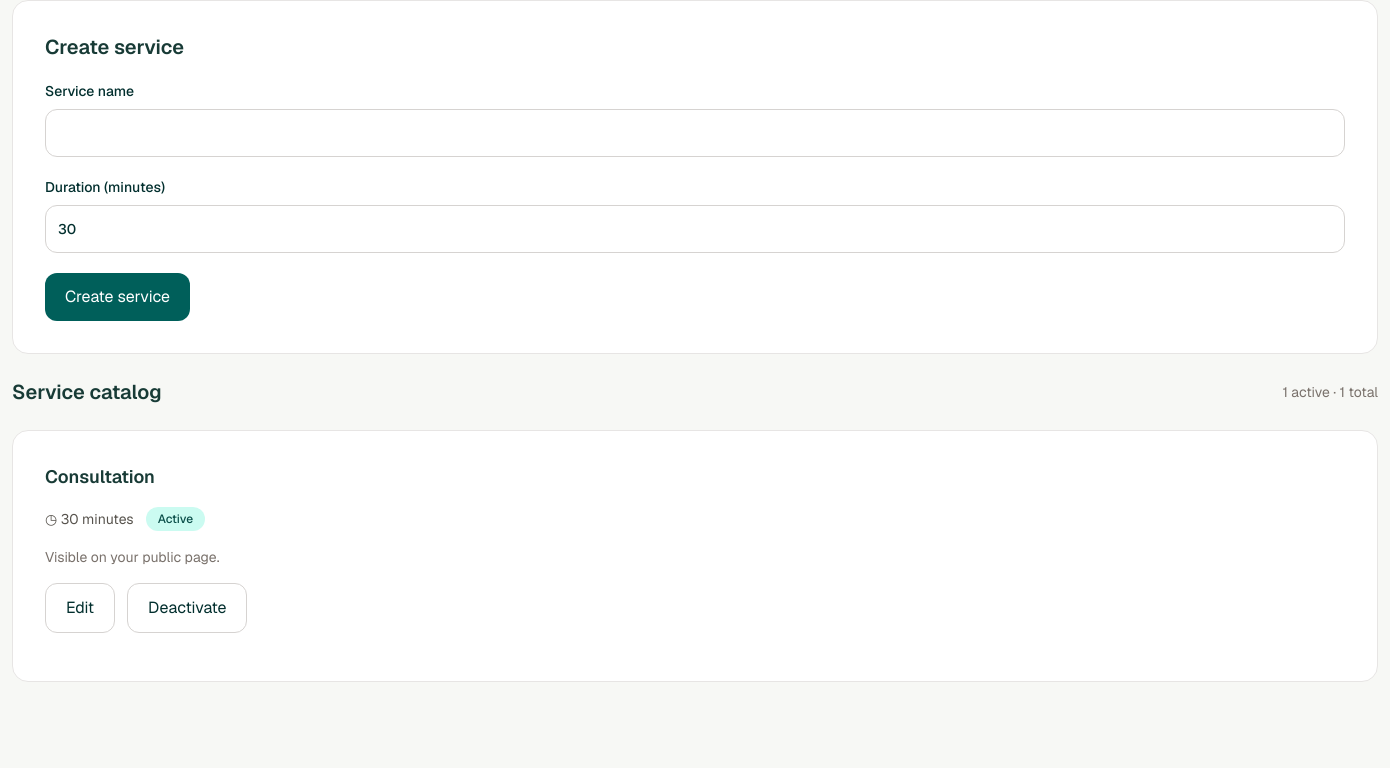
Test: edits an existing service
Step 1. Click the button with aria-label "Edit Consultation" → (80, 608), box [45, 583, 115, 633]
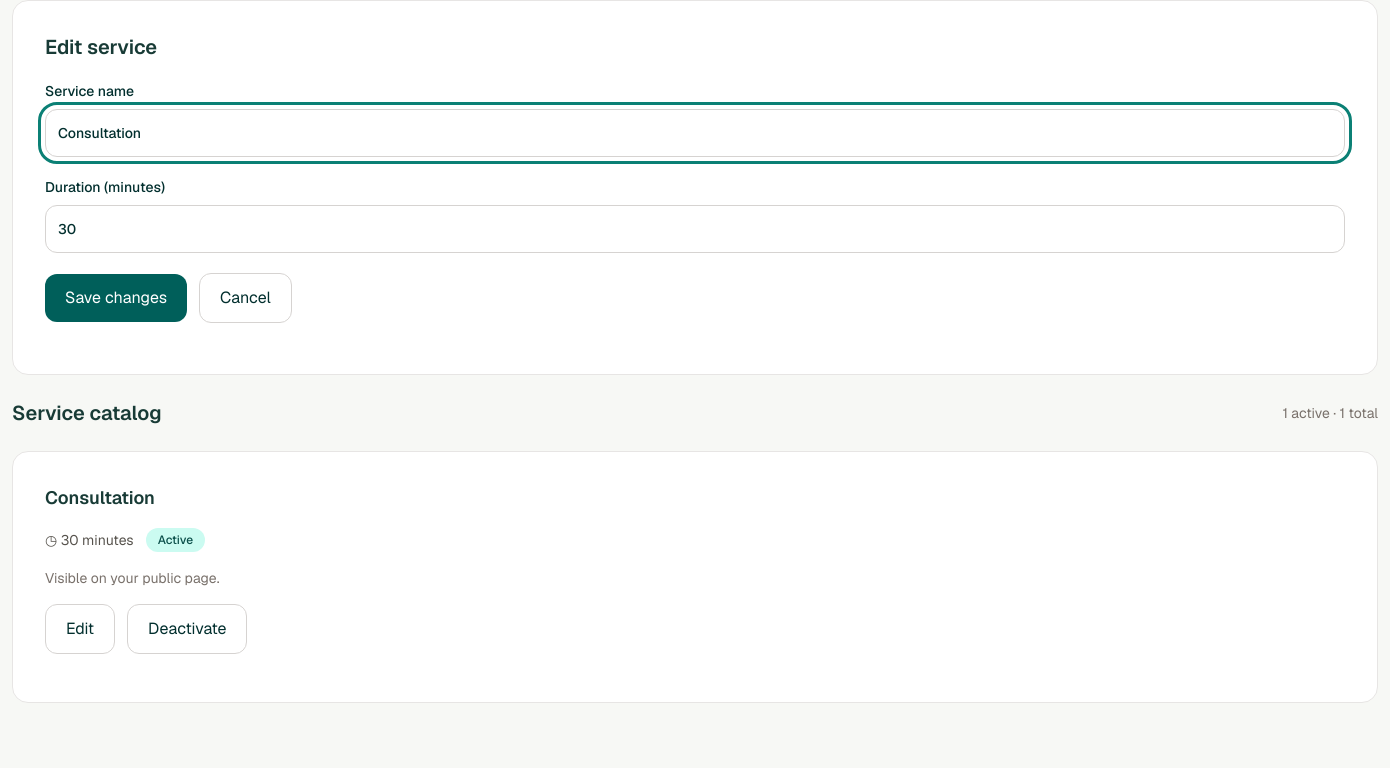
expect the field labelled "Service name" holds "Consultation": met
Step 2. Replace the text in the field labelled "Service name" with "Follow-up" → (695, 133), box [45, 109, 1345, 157]
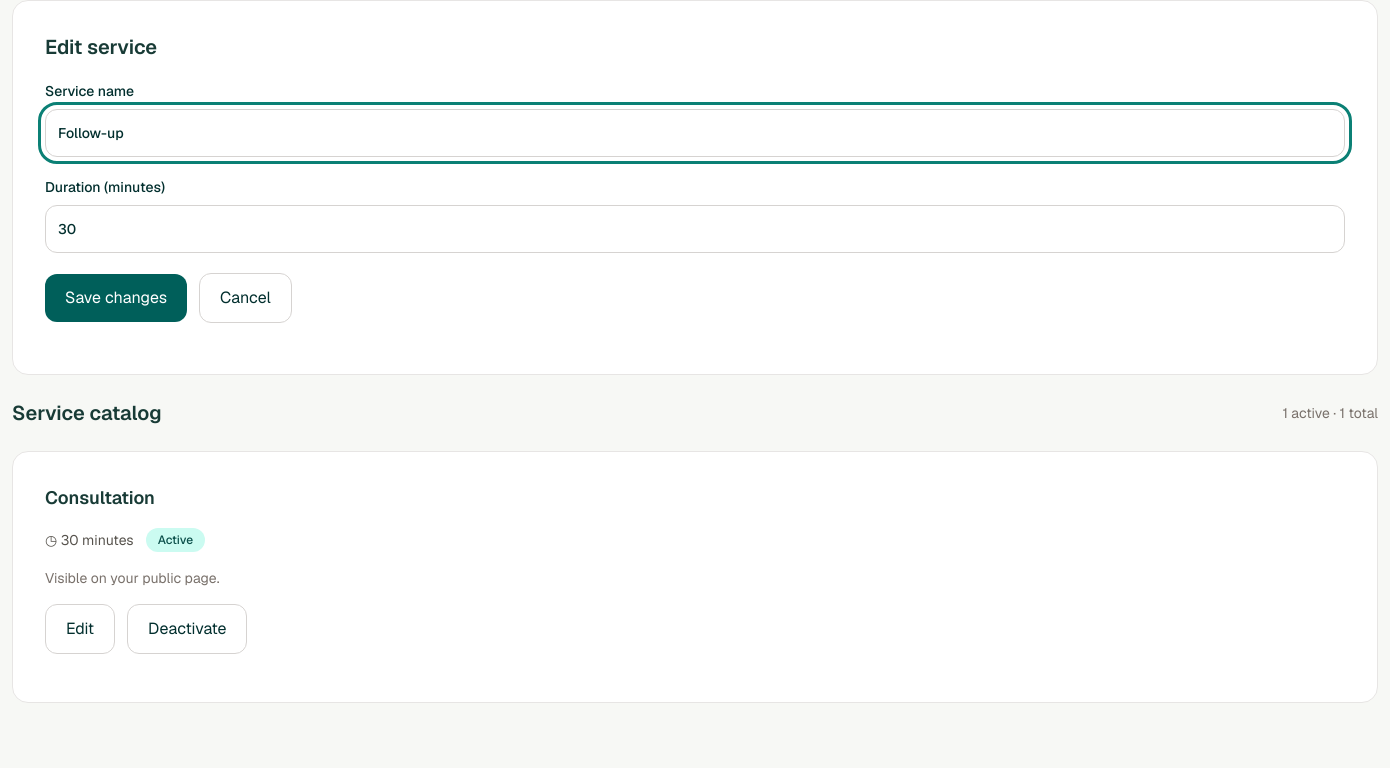
Step 3. Click the button "Save changes" → (116, 298), box [45, 274, 187, 322]
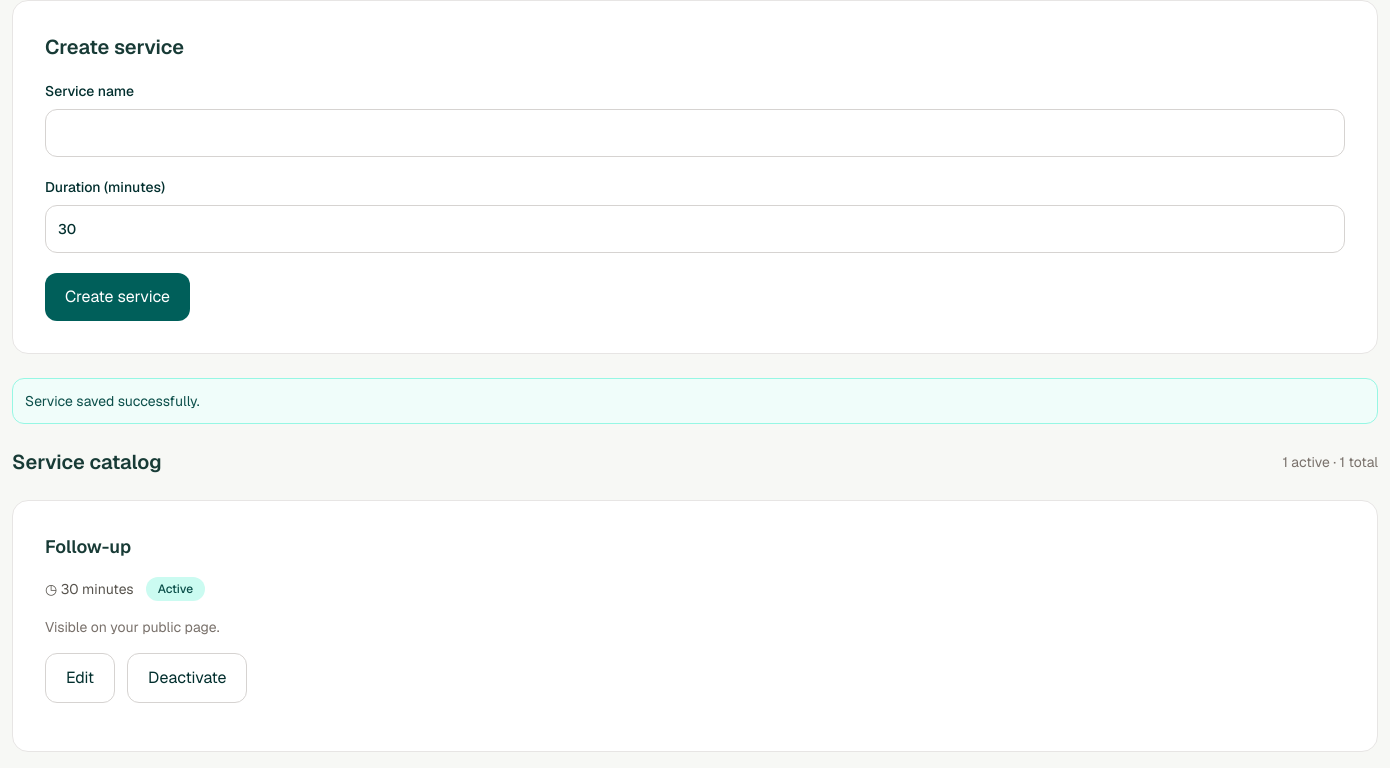
expect the heading "Follow-up" is shown: met, box [45, 535, 131, 558]
